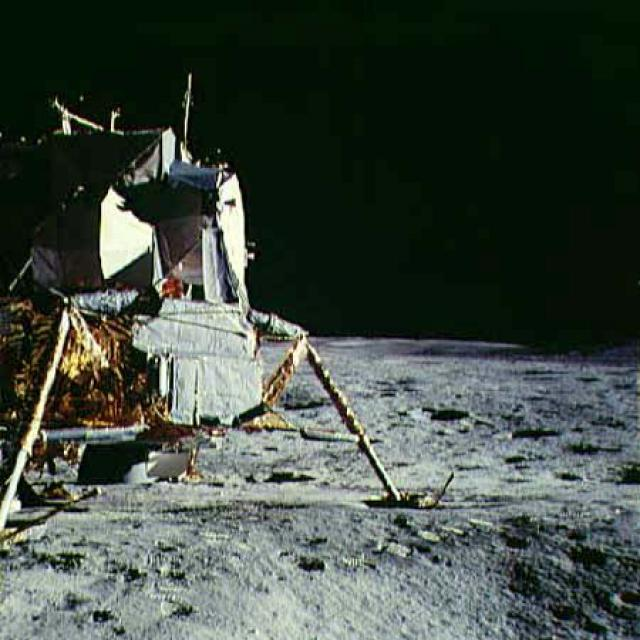crater: (415, 396, 468, 429), (495, 417, 558, 443), (559, 432, 614, 458)
